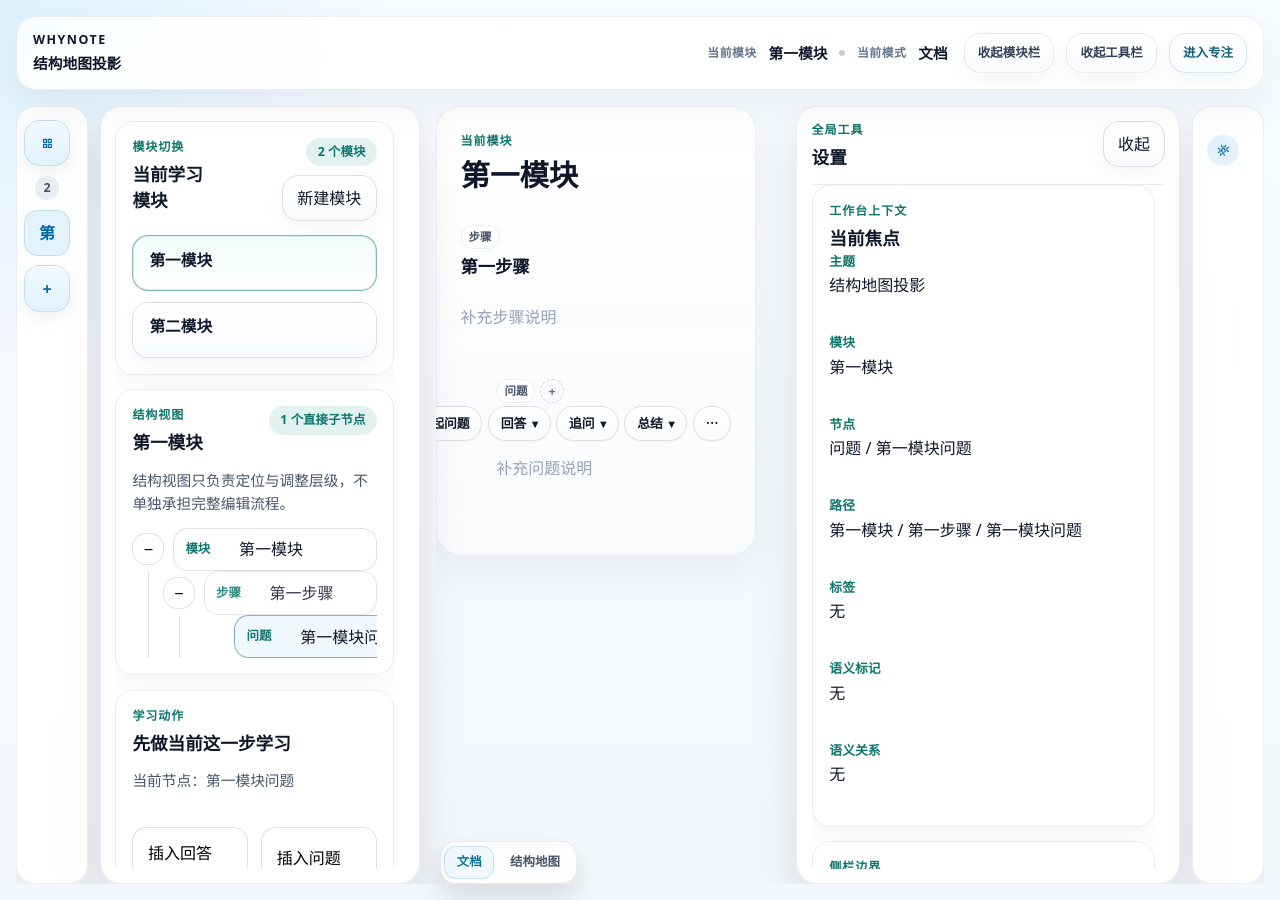
Scenario: renders a map-global status toolbar while keeping question focus controls inline
Click the button with test id "workspace-main-view-tab-structure-map" at (535, 863), box [498,846,572,879]
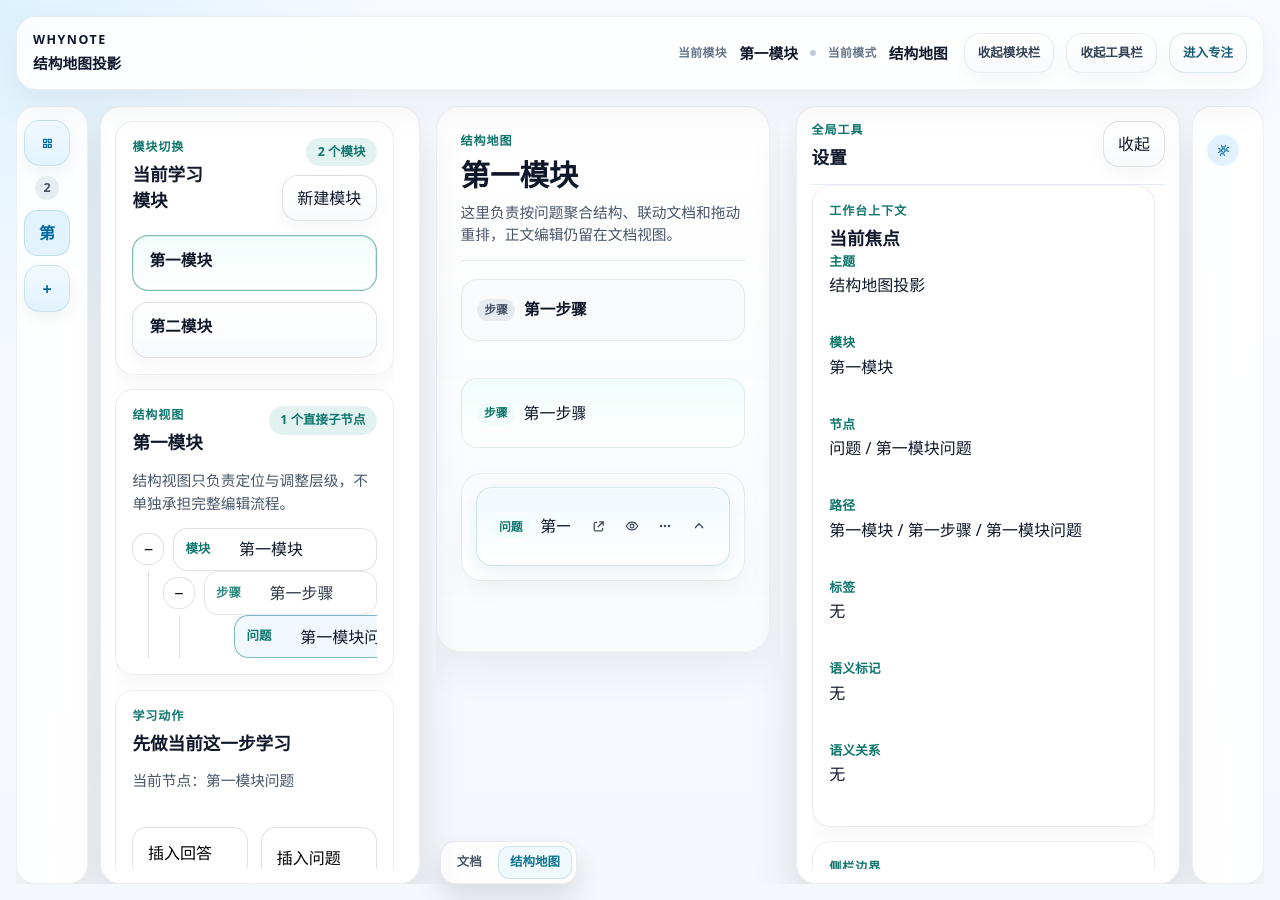
Expected: the 1st element showing "步骤 第一步骤" is shown, [460,279,746,341]
Expected: the button named "聚焦当前问题簇" is shown
Click the button named "聚焦当前问题簇" at (632, 526), box [617,511,647,542]
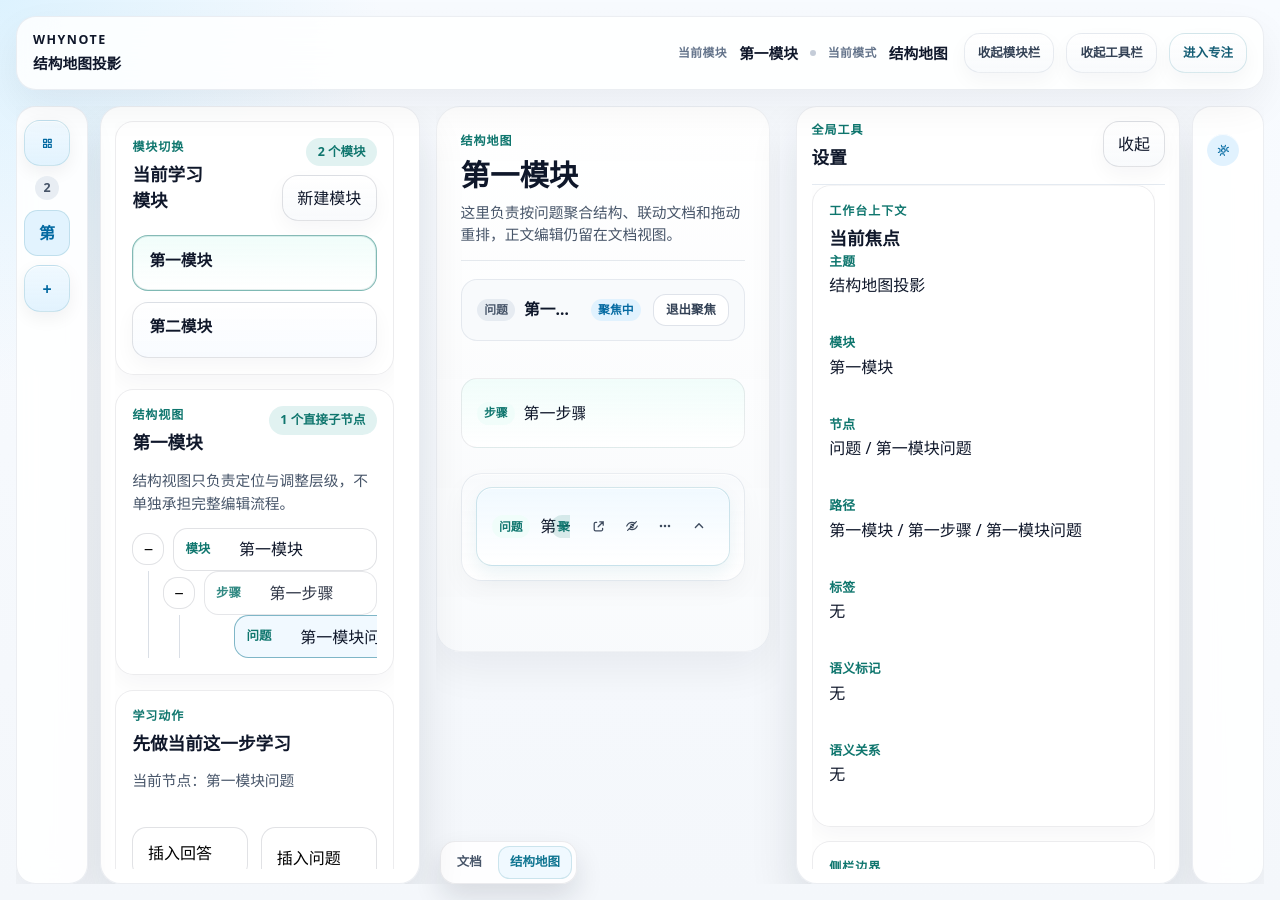
Expected: the text "退出聚焦" is shown, [666,301,716,318]
